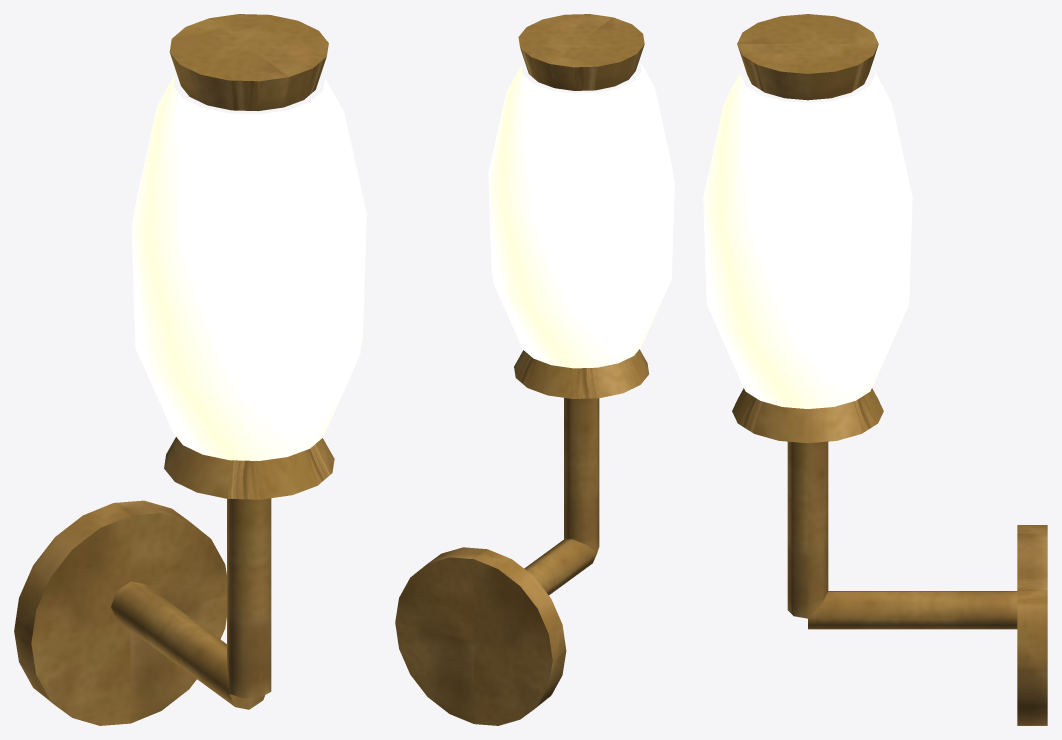
The model's file is wall-sconce.glb.
3 views of the same model, side by side, from view 1: azimuth 30°, elevation 25°; view 2: azimuth 150°, elevation 25°; view 3: azimuth 270°, elevation 25° (orthographic). The views are drawn at different scales.
Parts seen in each view (by area): view 1: WallSconce_glow, WallSconce_brass; view 2: WallSconce_glow, WallSconce_brass; view 3: WallSconce_glow, WallSconce_brass.
Boxes of the visible parts, left/top/right/bottom form: WallSconce_glow: left=131, top=74, right=366, bottom=460; WallSconce_brass: left=14, top=14, right=334, bottom=725; WallSconce_glow: left=488, top=62, right=674, bottom=368; WallSconce_brass: left=395, top=14, right=648, bottom=725; WallSconce_glow: left=703, top=66, right=912, bottom=408; WallSconce_brass: left=732, top=14, right=1047, bottom=725.
Size of the model in its own units: 0.124 by 0.44 by 0.204.
2 materials, 1 textured.
